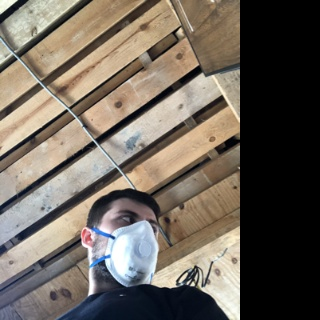with_mask: (108, 207, 160, 287)
